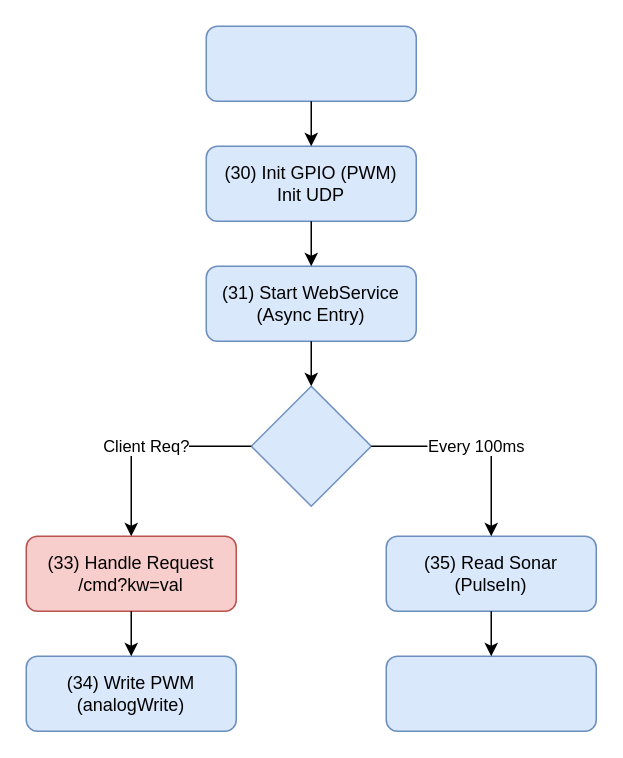
Image size: 623x758. Some labels were removed from this diagram. The box of each missing label's shape, as (x1, y1, x2, y2) in pixels:
(29) Boot & Init WiFi: (205, 25, 416, 101)
(32) Loop: (250, 385, 371, 506)
(36) UDP Broadcast: (385, 655, 596, 731)
